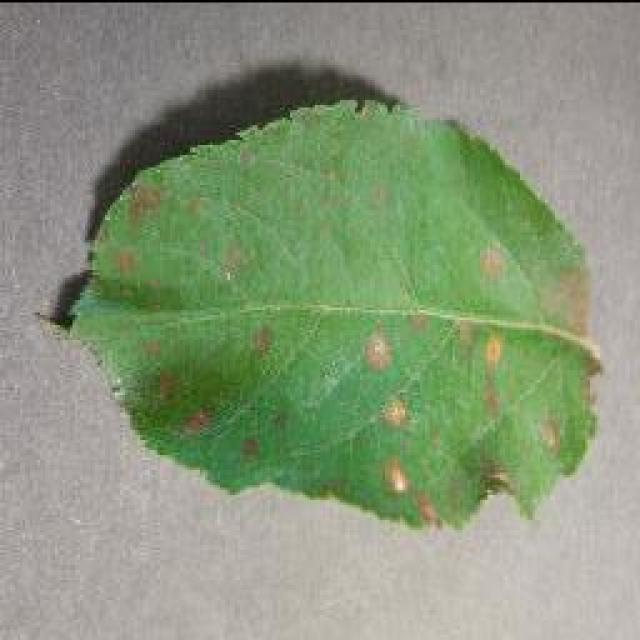apple rust disease: (62, 95, 602, 533)
